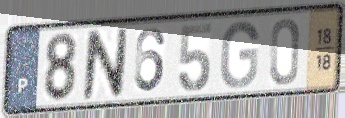0: (268, 16, 302, 87)
5: (177, 21, 214, 95)
6: (134, 27, 168, 96)
8: (43, 31, 80, 104)
G: (217, 19, 261, 91)
N: (80, 26, 130, 102)
